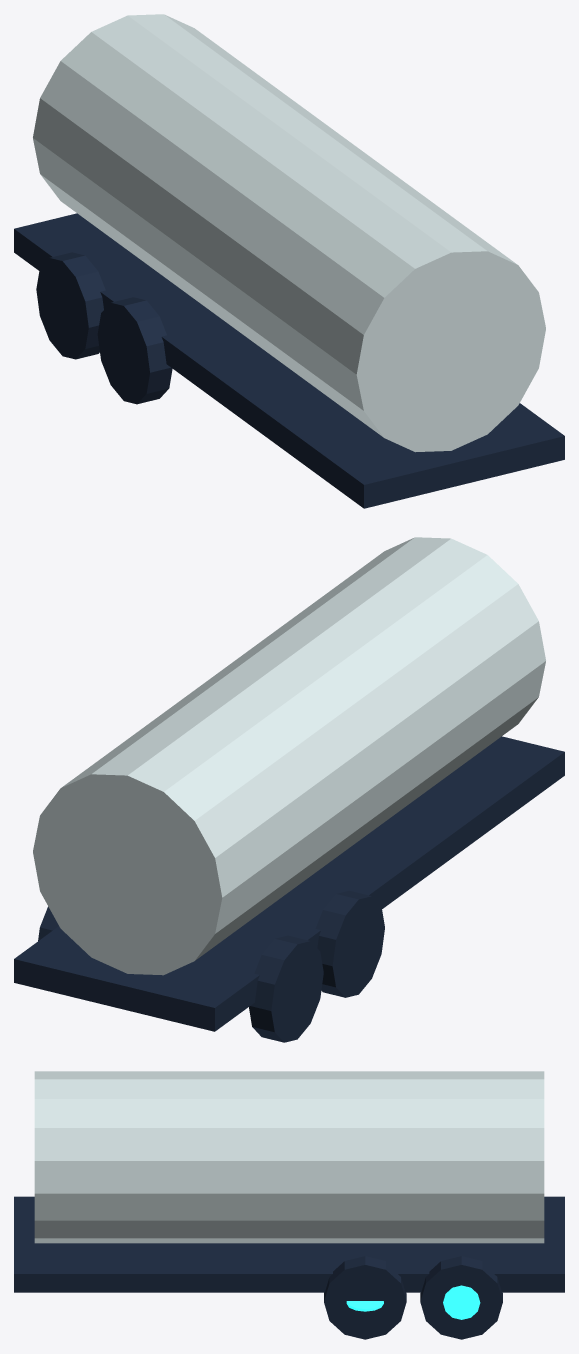
File: PROP_truck-trailer-tanker_scene_20261005.glb
The picture shows the model from 3 angles, top to bottom: view 1: azimuth 30°, elevation 25°; view 2: azimuth 150°, elevation 25°; view 3: azimuth 270°, elevation 25°; orthographic projection. The views are drawn at different scales.
Parts seen in each view (by area): view 1: VEH_TrailerTank, VEH_TrailerChassis.002, VEH_Wheel.041, VEH_Wheel.040; view 2: VEH_TrailerTank, VEH_TrailerChassis.002, VEH_Wheel.040, VEH_Wheel.041; view 3: VEH_TrailerTank, VEH_TrailerChassis.002, VEH_Wheel.043, VEH_Wheel.042, VEH_Hub.042.
Boxes of the visible parts, x1,y1,x2,y2 form: VEH_TrailerTank: (33, 14, 545, 452); VEH_TrailerChassis.002: (14, 213, 564, 508); VEH_Wheel.041: (97, 297, 172, 404); VEH_Wheel.040: (36, 252, 105, 359); VEH_TrailerTank: (33, 537, 545, 975); VEH_TrailerChassis.002: (14, 736, 564, 1031); VEH_Wheel.040: (249, 935, 323, 1042); VEH_Wheel.041: (315, 890, 384, 997); VEH_TrailerTank: (34, 1071, 544, 1243); VEH_TrailerChassis.002: (14, 1196, 564, 1292); VEH_Wheel.043: (324, 1256, 406, 1339); VEH_Wheel.042: (420, 1256, 502, 1339); VEH_Hub.042: (443, 1285, 480, 1319).
Bounding box in the file's own units: 3.38 × 3.45 × 8.
